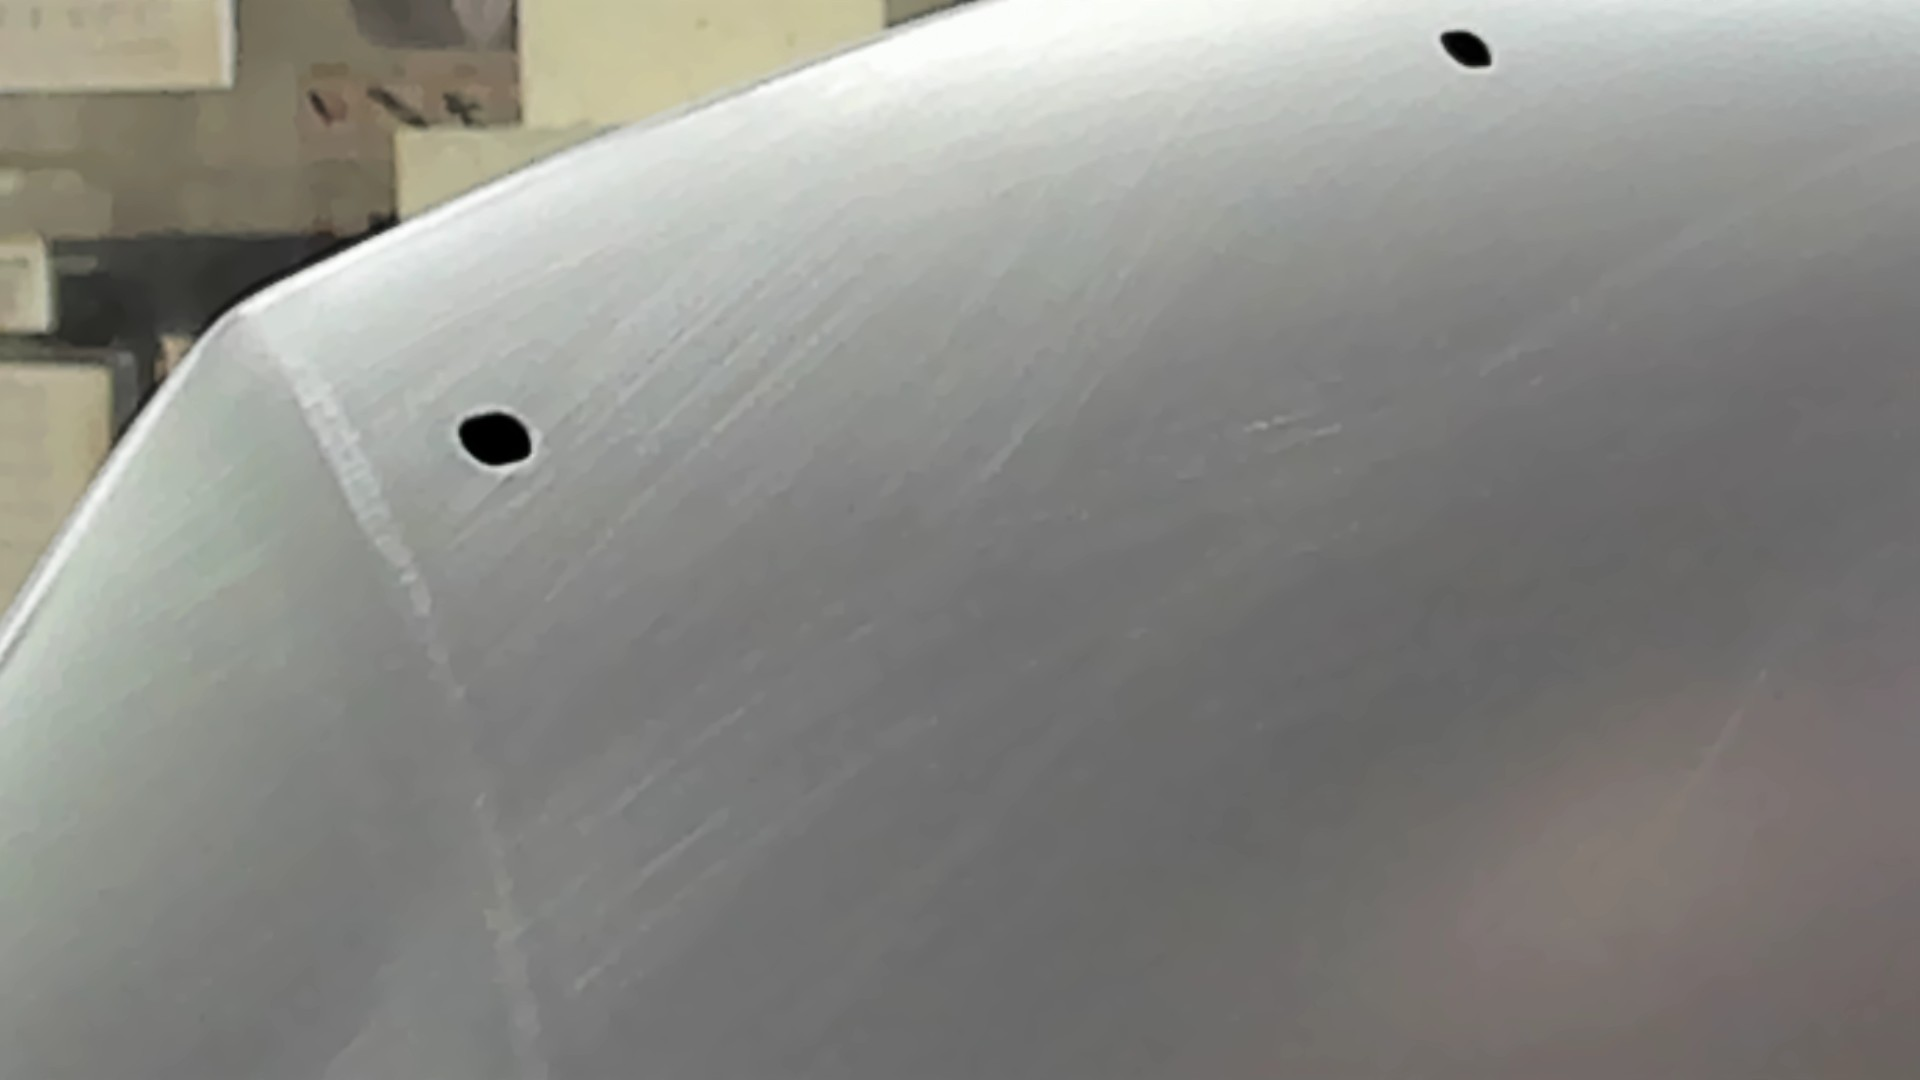amorfo: (450, 410, 542, 473), (1439, 29, 1493, 73)
